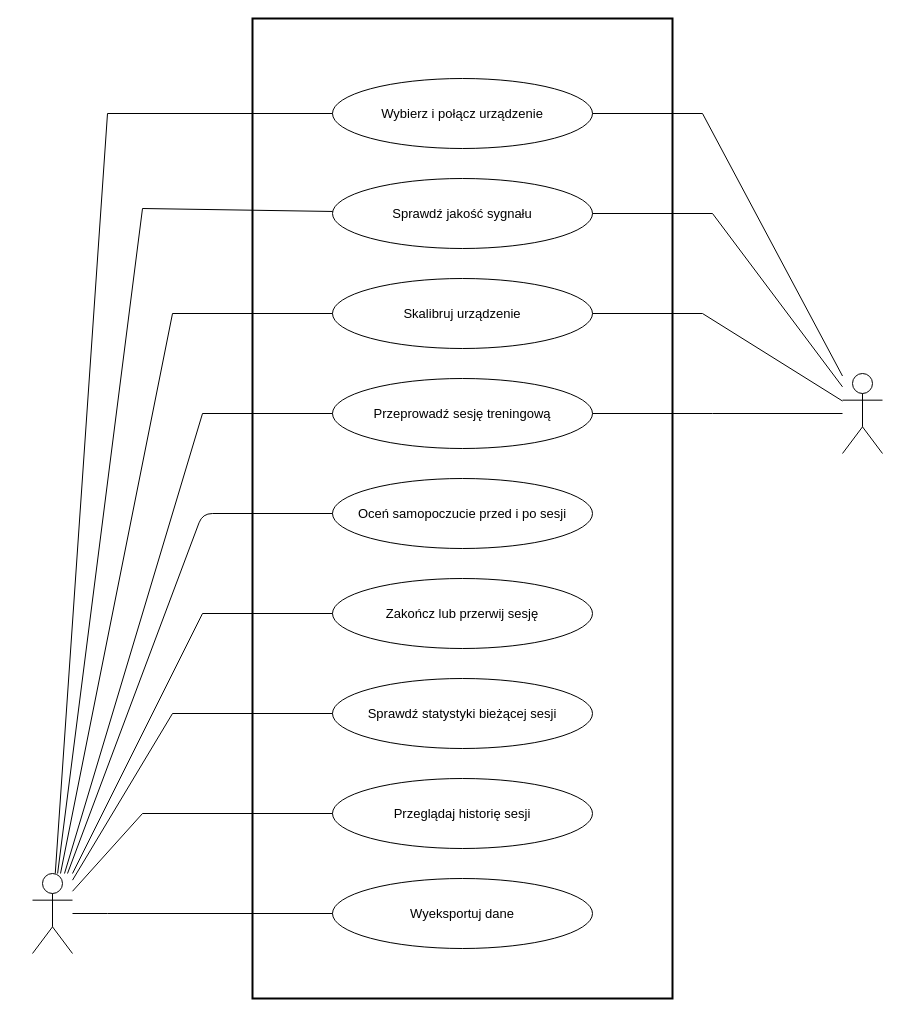
This 920x1016 diagram has some shape labels left out. The shapes that lost their labels are listed below. From the top down, each one's box as (x1, y1, x2, y2) in pixels, then its label:
(842, 372, 882, 454): Czepek EEG
(251, 17, 673, 999): Multiplatformowa aplikacja do neurofeedbacku
(32, 872, 72, 954): Użytkownik
